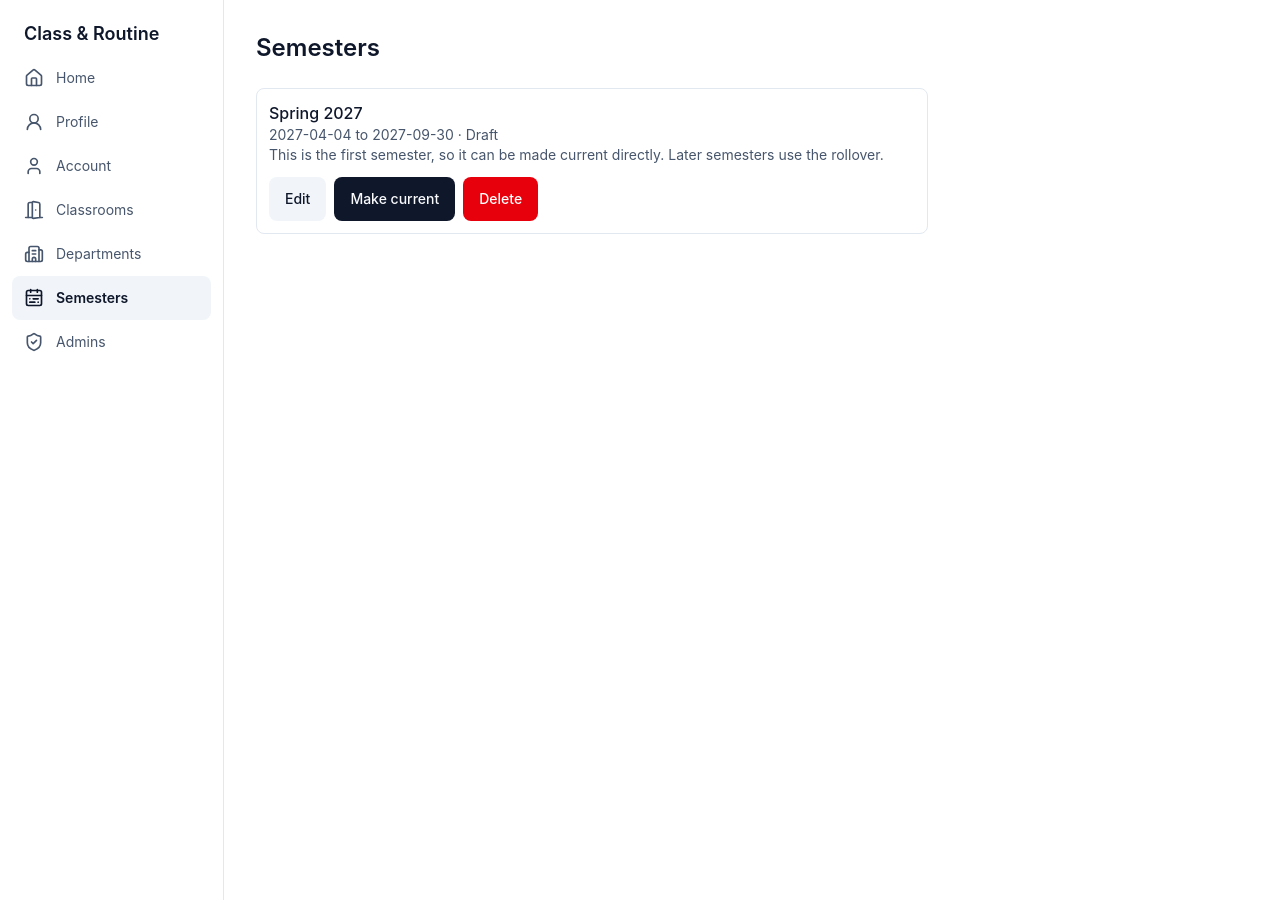
semesters screens (spec 04) › SEM-03 the server message for an end date before the start date is shown at the field
The image size is (1280, 900).
Click the button "Edit" at (298, 199), box 269,177 -> 326,221
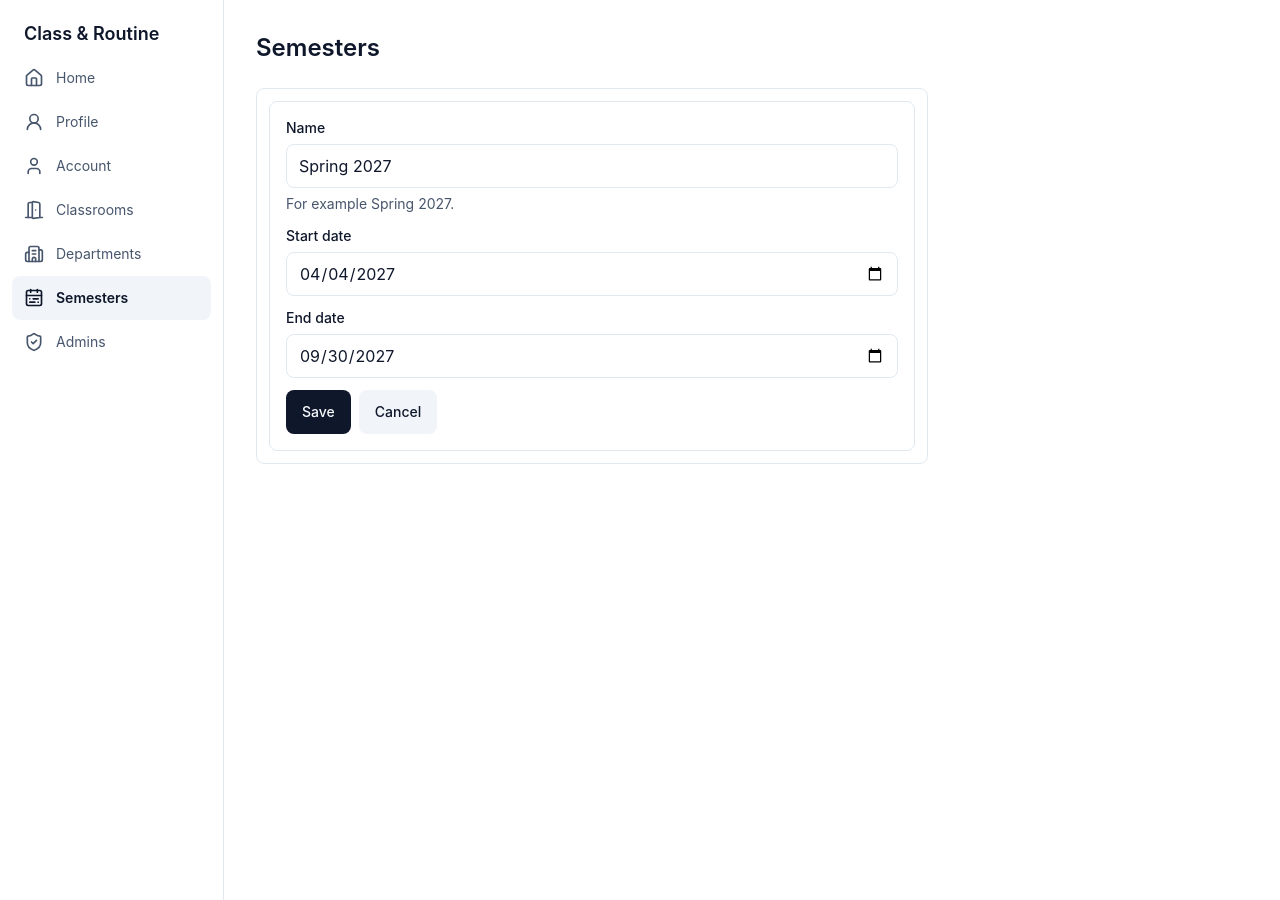
Click the button "Save" at (318, 412), box 286,390 -> 351,434
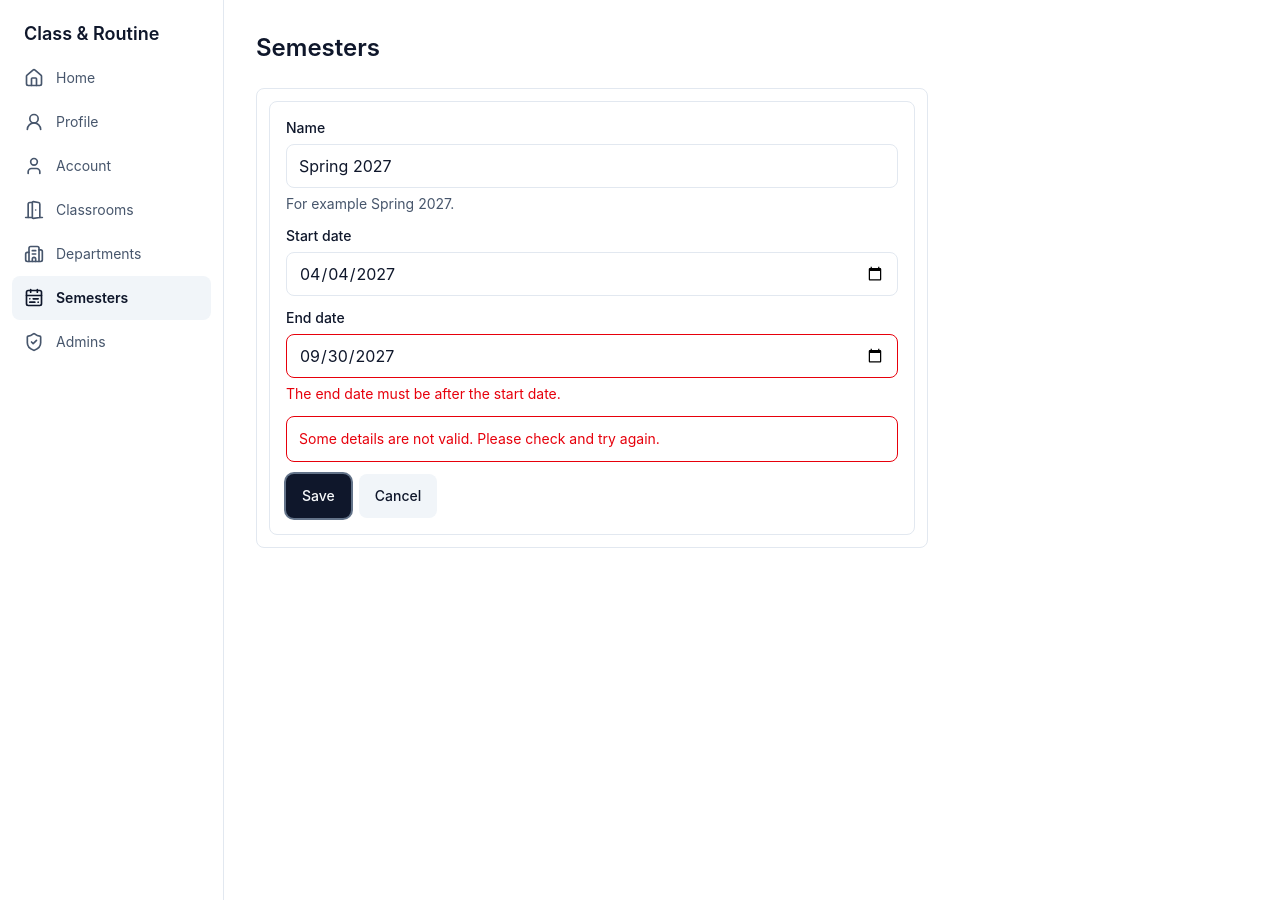
Check: the text "The end date must be after the start date." is shown, box 286,385 -> 561,402
